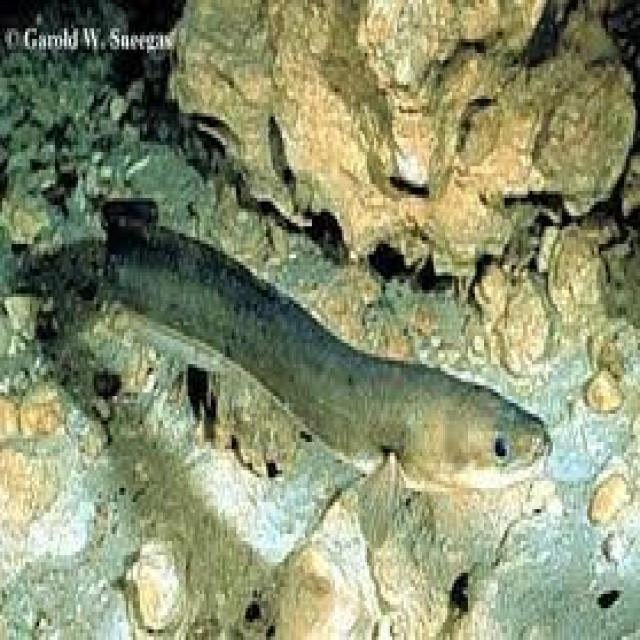Freshwater-Eel: (40, 155, 602, 534)
